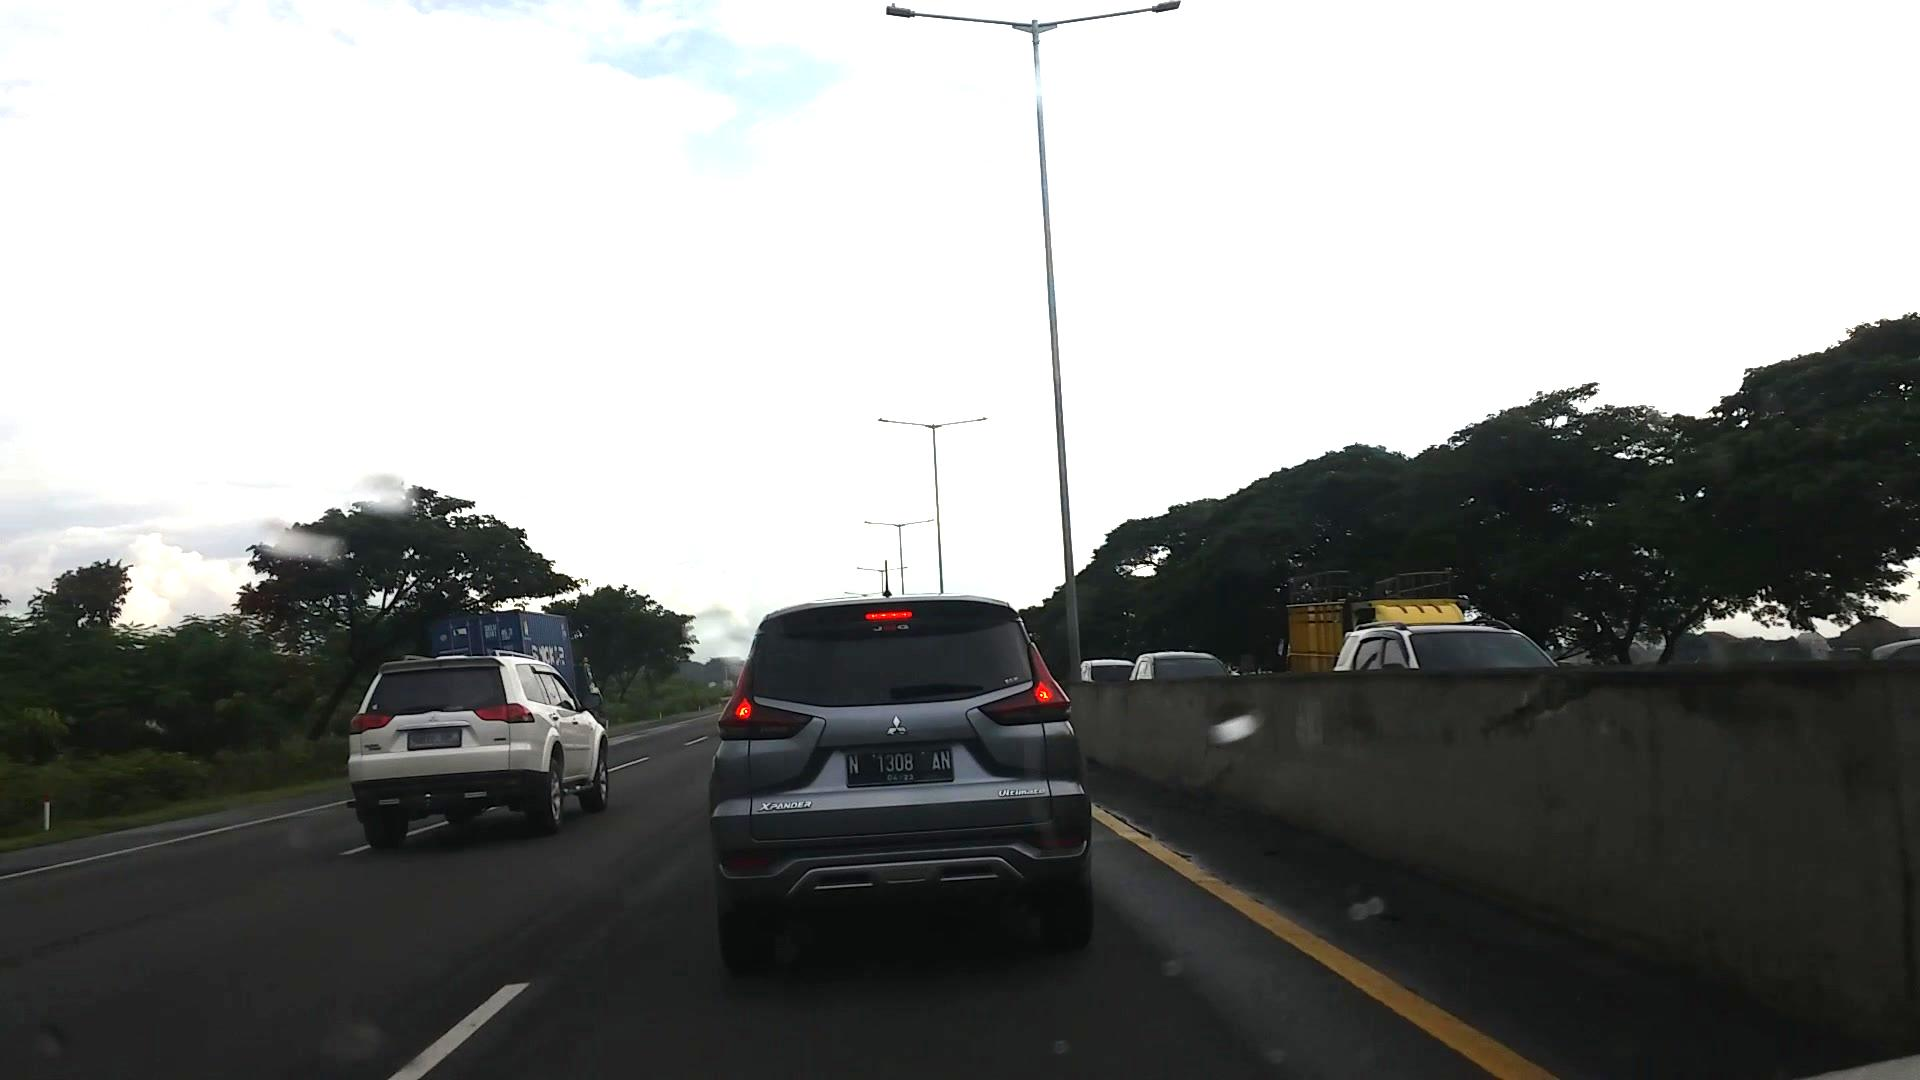plate_positive: (847, 748, 953, 787)
